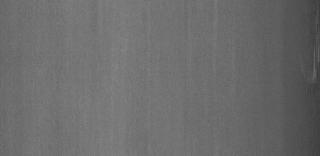silk spot: (285, 48, 319, 88)
